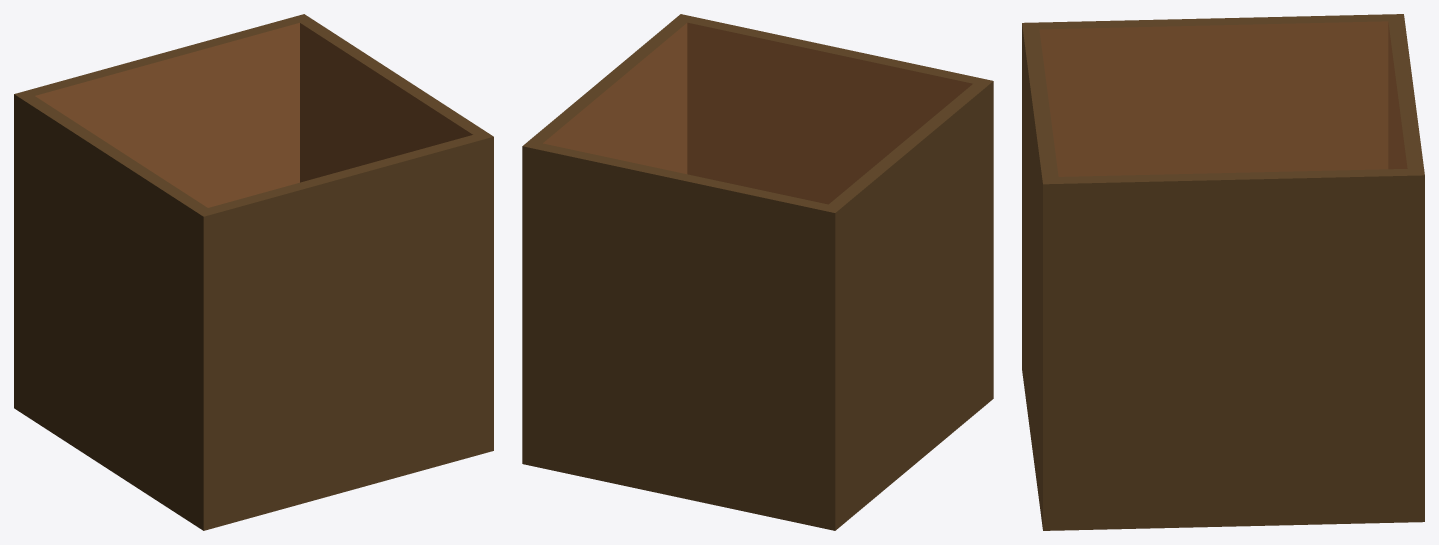
Rendered from Box_Small.fbx.
3 views of the same model, side by side, from view 1: azimuth 30°, elevation 25°; view 2: azimuth 150°, elevation 25°; view 3: azimuth 270°, elevation 25° (orthographic). The views are drawn at different scales.
Visible parts, largest first — view 1: Box.001; view 2: Box.001; view 3: Box.001.
Part boxes in pixels (x1=…): Box.001: x1=14, y1=14, x2=493, y2=530; Box.001: x1=522, y1=14, x2=993, y2=530; Box.001: x1=1022, y1=14, x2=1424, y2=530.
Size of the model in its own units: 46.85 by 44.47 by 46.85.
